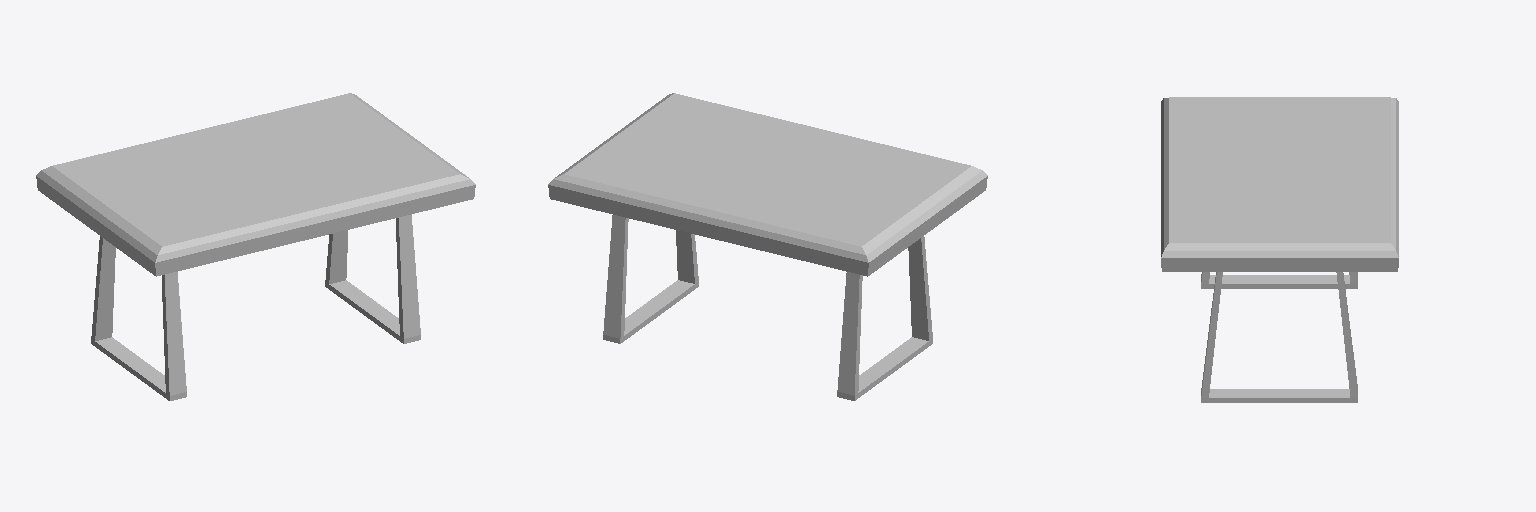
The model's file is TableMesh.obj.
3 renders of one model, left to right at view 1: azimuth 30°, elevation 25°; view 2: azimuth 150°, elevation 25°; view 3: azimuth 270°, elevation 25°, orthographic.
Parts seen in each view (by area): view 1: pCube12; view 2: pCube12; view 3: pCube12.
Boxes of the visible parts, <box> form: pCube12: <box>36,93,475,400</box>; pCube12: <box>548,93,987,400</box>; pCube12: <box>1161,97,1398,402</box>.
Size of the model in its own units: 19.18 by 9.83 by 12.34.